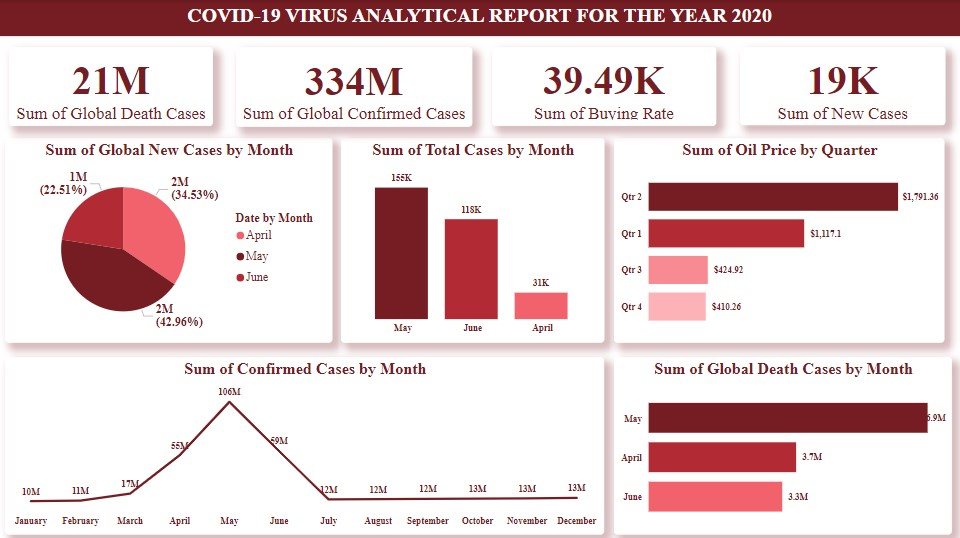

The dashboard page shown, as its layout file describes it:
{"tool":"powerbi","page":{"name":"Page 1","canvas":[1280,720],"ordinal":0},"visuals":[{"type":"lineChart","fields":{"Category":["covid19_eco.DATE.Variation.Date Hierarchy.Month"],"Y":["Sum(covid19_eco.GLOBAL_CONFIRMED_CASE)"]},"box":[9.5,474.3,795.9,236.5],"z":0},{"type":"pieChart","fields":{"Category":["covid19_eco.DATE.Variation.Date Hierarchy.Month"],"Y":["Sum(covid19_eco.GLOBAL_NEW_CASES)"]},"box":[9.5,183.8,435.1,271.6],"z":2},{"type":"columnChart","fields":{"Category":["covid19_eco.DATE.Variation.Date Hierarchy.Month"],"Y":["Sum(covid19_eco.TOTAL_CASE)"]},"box":[455.4,183.8,350,271.6],"z":3},{"type":"barChart","fields":{"Category":["covid19_eco.DATE.Variation.Date Hierarchy.Month"],"Y":["Sum(covid19_eco.GLOBAL_DEATH_CASES)"]},"box":[818.9,474.3,439.2,236.5],"z":5},{"type":"barChart","fields":{"Category":["covid19_eco.DATE.Variation.Date Hierarchy.Quarter"],"Y":["Sum(covid19_eco.OIL_PRICE)"]},"box":[818.9,183.8,439.2,271.6],"z":6},{"type":"textbox","box":[0,0,1279.3,47.8],"z":8},{"type":"card","fields":{"Values":["Sum(covid19_eco.GLOBAL_DEATH_CASES)"]},"box":[14.6,62.4,271,104.9],"z":9},{"type":"card","fields":{"Values":["Sum(covid19_eco.GLOBAL_CONFIRMED_CASE)"]},"box":[316.2,62.4,306.9,104.9],"z":11},{"type":"card","fields":{"Values":["Sum(covid19_eco.SHARE_INDEX)"]},"box":[656.2,62.4,297.6,104.9],"z":12},{"type":"card","fields":{"Values":["Sum(covid19_eco.NEW_CASE)"]},"box":[985.2,63,272.8,103.7],"z":13}]}

Visuals, with their boxes in screenshot pixels (x1, y1, x2, y2), scaled from the page's 1280x720 canvas onto the 960x538 screenshot:
lineChart - covid19_eco.DATE.Variation.Date Hierarchy.Month x Sum(covid19_eco.GLOBAL_CONFIRMED_CASE): 7/354/604/531
pieChart - covid19_eco.DATE.Variation.Date Hierarchy.Month x Sum(covid19_eco.GLOBAL_NEW_CASES): 7/137/333/340
columnChart - covid19_eco.DATE.Variation.Date Hierarchy.Month x Sum(covid19_eco.TOTAL_CASE): 342/137/604/340
barChart - covid19_eco.DATE.Variation.Date Hierarchy.Month x Sum(covid19_eco.GLOBAL_DEATH_CASES): 614/354/944/531
barChart - covid19_eco.DATE.Variation.Date Hierarchy.Quarter x Sum(covid19_eco.OIL_PRICE): 614/137/944/340
textbox: 0/0/959/36
card - Sum(covid19_eco.GLOBAL_DEATH_CASES): 11/47/214/125
card - Sum(covid19_eco.GLOBAL_CONFIRMED_CASE): 237/47/467/125
card - Sum(covid19_eco.SHARE_INDEX): 492/47/715/125
card - Sum(covid19_eco.NEW_CASE): 739/47/944/125
